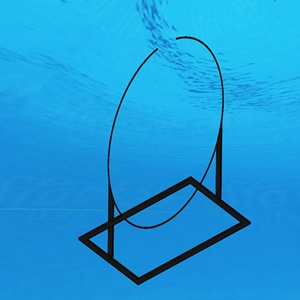circle: (76, 33, 256, 290)
